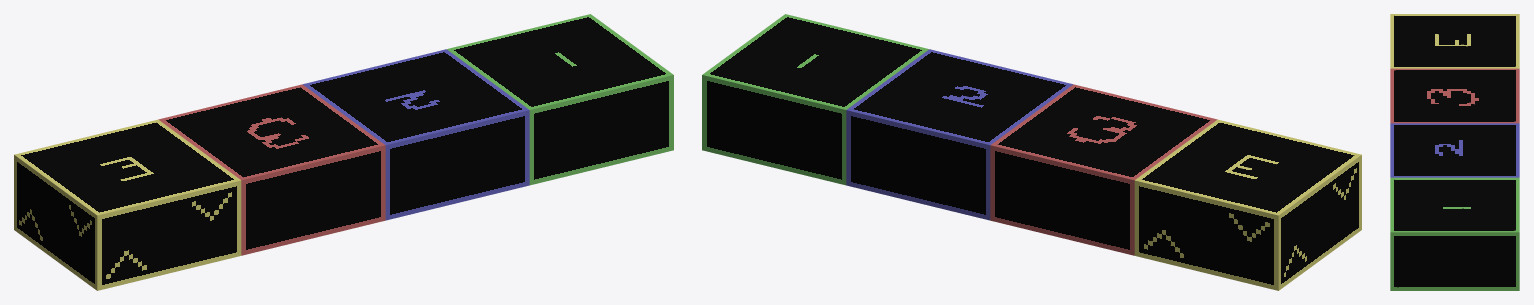
File: EpiskePlan.gltf
The picture shows the model from 3 angles, left to right: view 1: azimuth 30°, elevation 25°; view 2: azimuth 150°, elevation 25°; view 3: azimuth 270°, elevation 25°; orthographic projection. The views are drawn at different scales.
Parts seen in each view (by area): view 1: 1.2_ElevationChange, 1.1_W3, 1.1_W1, 1.1_W2; view 2: 1.2_ElevationChange, 1.1_W3, 1.1_W1, 1.1_W2; view 3: 1.1_W1, 1.1_W3, 1.1_W2, 1.2_ElevationChange.
Part boxes in pixels (x1,y1,x2,y2): 1.2_ElevationChange: (14,119,241,290); 1.1_W3: (158,84,385,255); 1.1_W1: (447,14,673,185); 1.1_W2: (303,49,529,220); 1.2_ElevationChange: (1134,119,1361,290); 1.1_W3: (990,84,1217,255); 1.1_W1: (702,14,928,185); 1.1_W2: (846,49,1072,220); 1.1_W1: (1390,177,1519,290); 1.1_W3: (1390,68,1519,123); 1.1_W2: (1390,123,1519,177); 1.2_ElevationChange: (1390,14,1519,68).
Bounding box in the file's own units: 8 × 1 × 2.
Materials: 1 (1 with a texture image).
